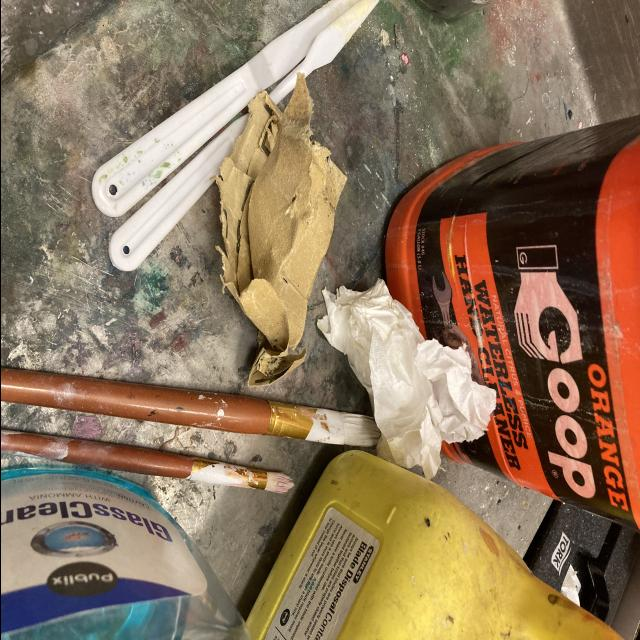paper: (213, 82, 349, 408), (312, 277, 496, 483)
trash-zQNu: (213, 78, 350, 397), (311, 279, 497, 486)
